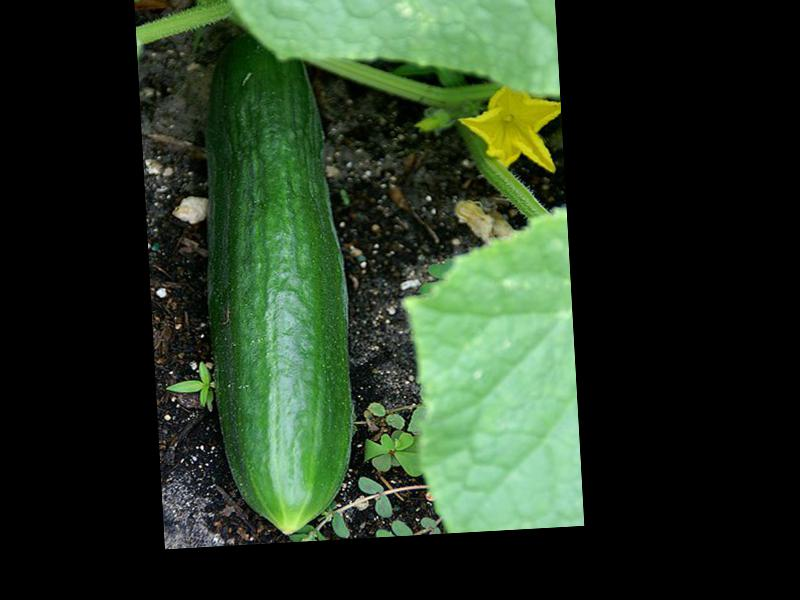Cucumber: (192, 28, 360, 539)
